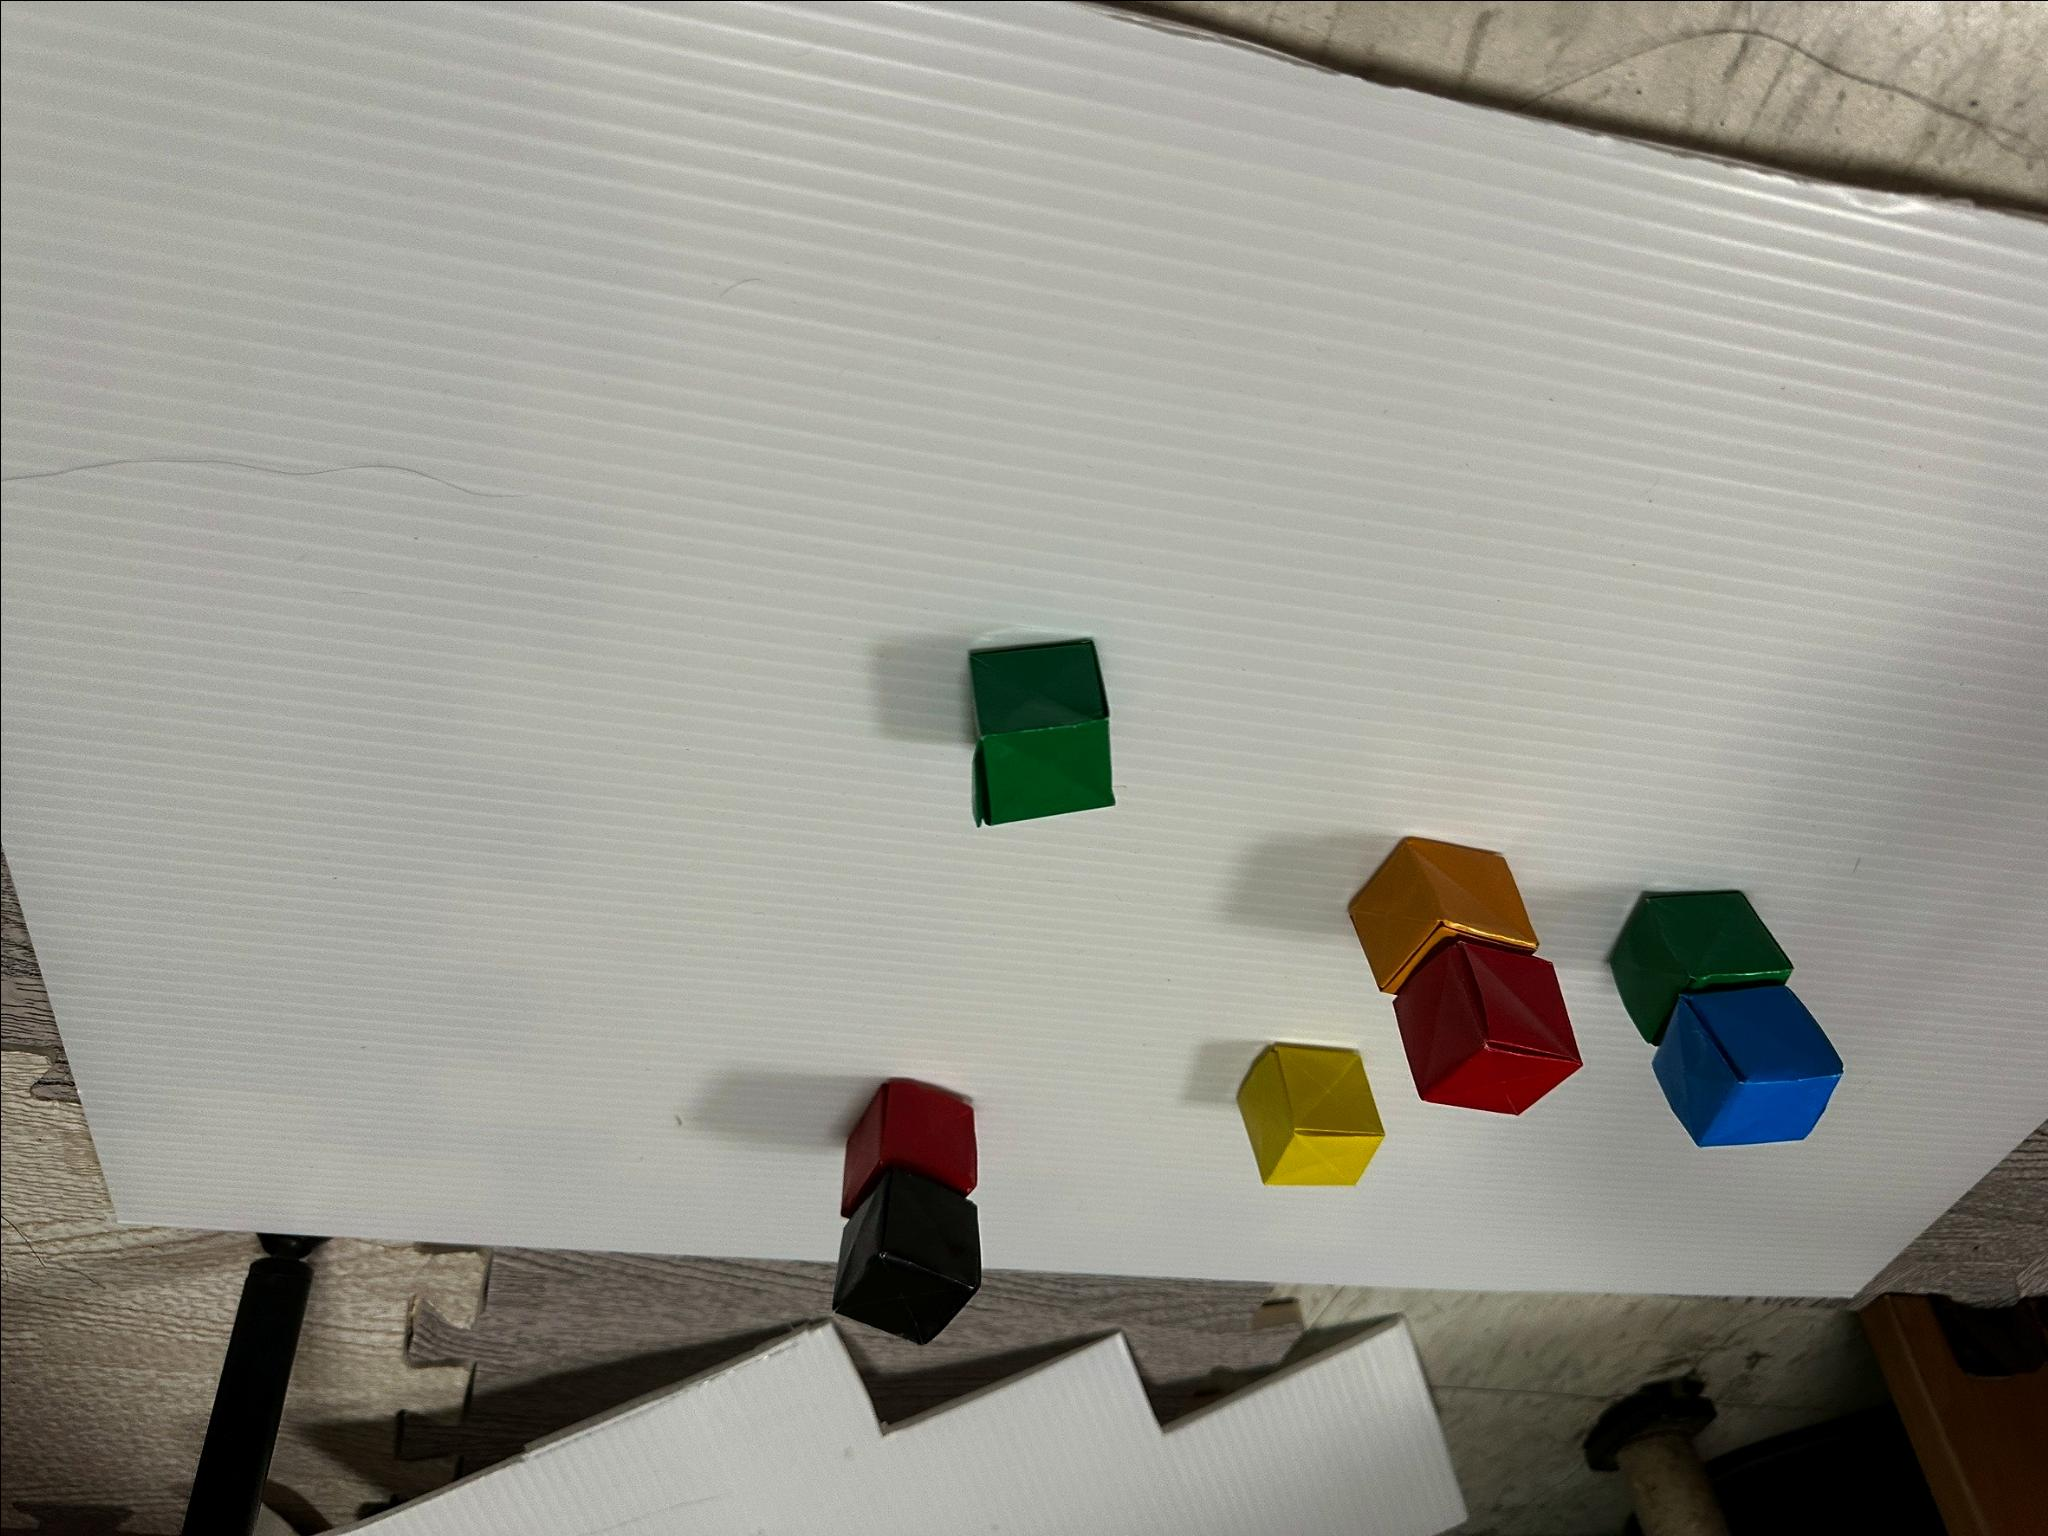cube: (1395, 937, 1580, 1115), (1651, 986, 1842, 1146), (1348, 837, 1538, 992), (1609, 891, 1792, 1042), (969, 641, 1113, 824), (832, 1168, 980, 1342), (1237, 1046, 1382, 1186), (840, 1079, 976, 1217)
